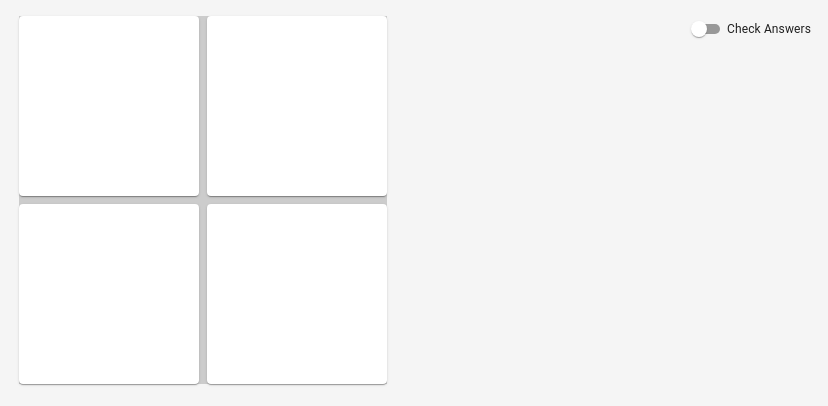
Test: Crossword › should show error banner when grid is complete but incorrect
// Fill in incorrect answers
Type "X" into the 1st field at point(109, 106), box x1=19 y1=85 x2=199 y2=127
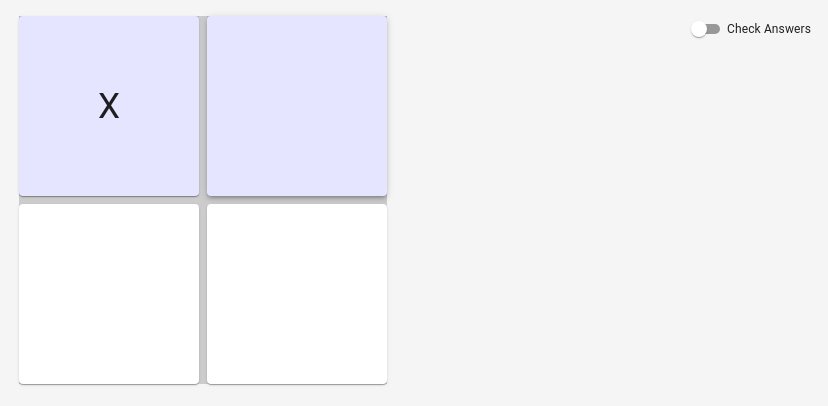
Type "Y" into the 2nd field at point(297, 106), box x1=207 y1=85 x2=387 y2=127
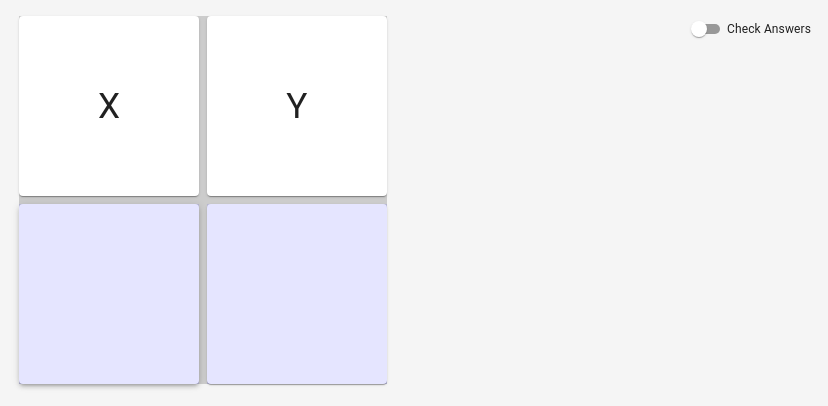
Type "Z" into the 3rd field at point(109, 294), box x1=19 y1=273 x2=199 y2=315
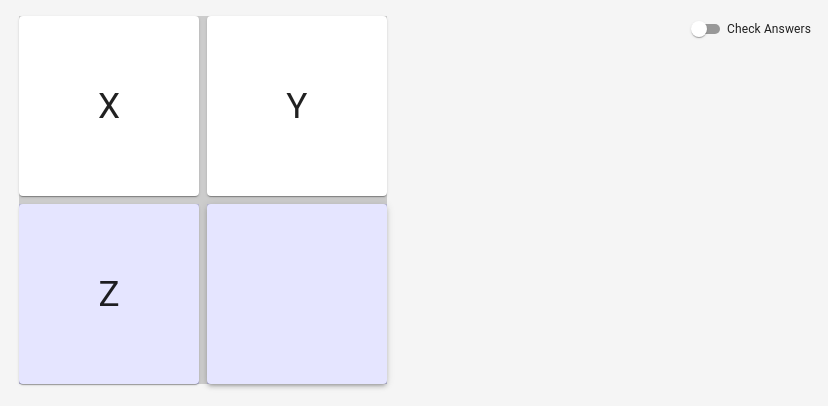
Type "W" into the 4th field at point(297, 294), box x1=207 y1=273 x2=387 y2=315
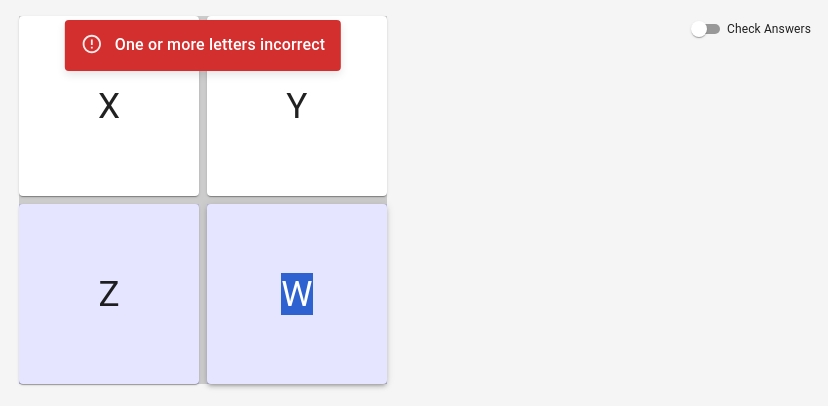
Expected: the text "One or more letters incorrect" is shown, x1=115 y1=35 x2=325 y2=54
